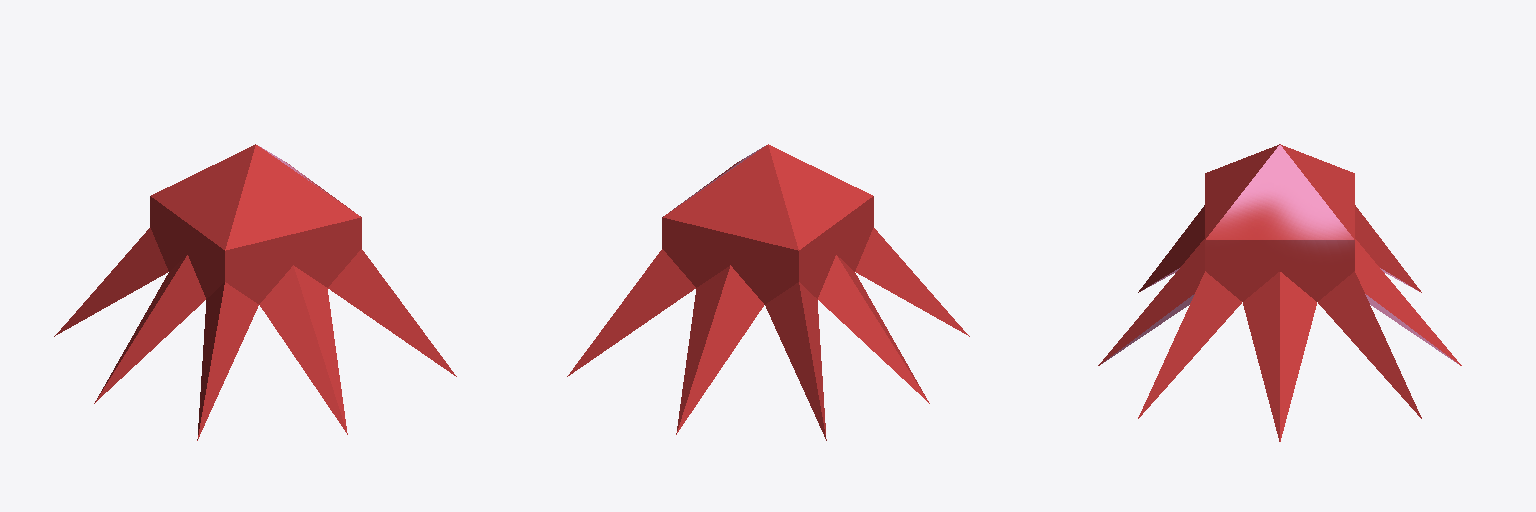
3 renders of one model, left to right at view 1: azimuth 30°, elevation 25°; view 2: azimuth 150°, elevation 25°; view 3: azimuth 270°, elevation 25°, orthographic.
Visible parts, largest first — view 1: 立方体; view 2: 立方体; view 3: 立方体.
Boxes of the visible parts, <box> form: 立方体: <box>54,144,456,440</box>; 立方体: <box>567,144,969,440</box>; 立方体: <box>1098,144,1461,441</box>.
Bounding box in the file's own units: 3.5 × 2.31 × 3.43.
Materials: 1 (1 with a texture image).